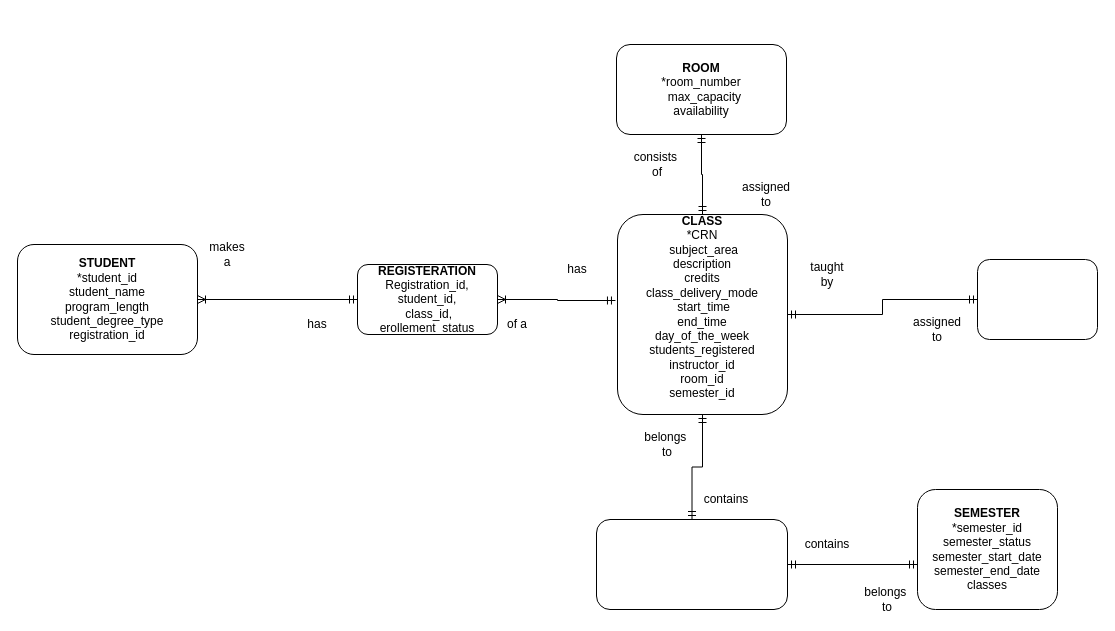
Some shapes in this 1115 by 631 pixel diagram are drawn without their labels. The shapes that lost their labels are listed below. From the top down, each one's box as (x1, y1, x2, y2) in pixels, then its label:
(976, 258, 1098, 340): INSTRUCTOR *instructor_id instructor_name area_of_expertise
(596, 518, 788, 610): SEMESTER_CLASS_OFFERING SCO_id , semster_id , class_id , offering_status
